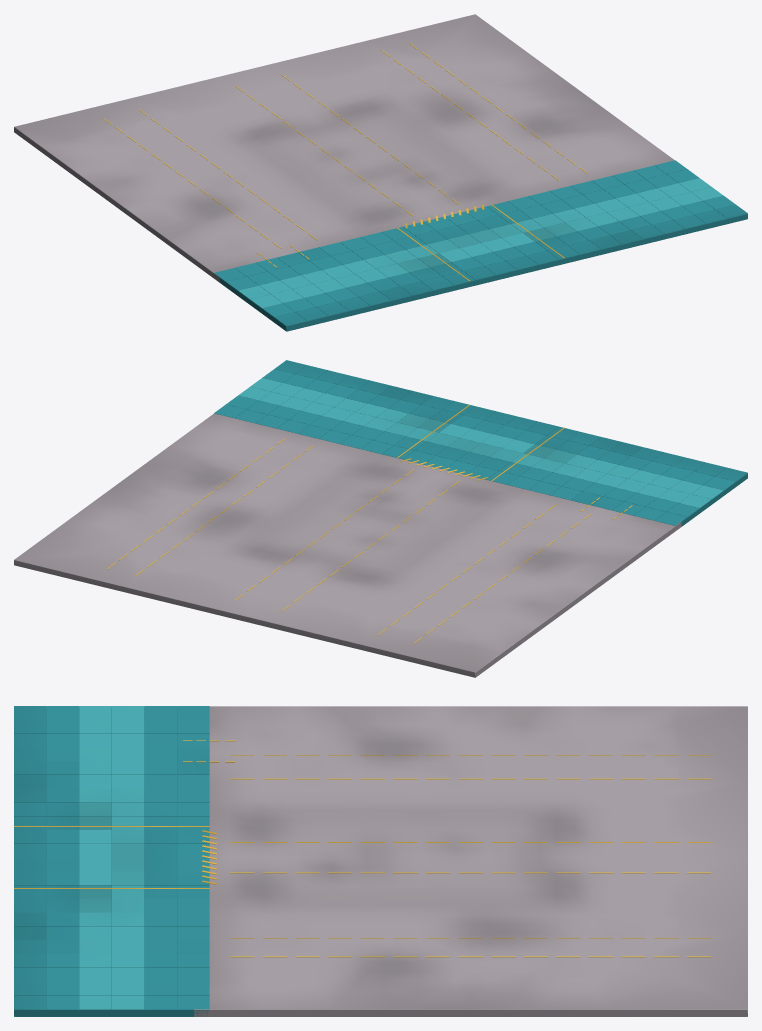
File: terminal_floors.glb
The picture shows the model from 3 angles, top to bottom: view 1: azimuth 30°, elevation 25°; view 2: azimuth 150°, elevation 25°; view 3: azimuth 270°, elevation 25°; orthographic projection. The views are drawn at different scales.
Visible parts, largest first — view 1: terminal_floors; view 2: terminal_floors; view 3: terminal_floors.
Part boxes in pixels (bbox=[...]): terminal_floors: bbox=[14, 14, 747, 331]; terminal_floors: bbox=[14, 360, 747, 677]; terminal_floors: bbox=[14, 706, 747, 1016].
Bounding box in the file's own units: 44 × 0.553 × 45.
